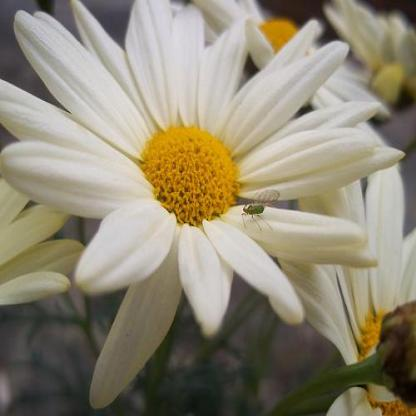aphid: (241, 187, 285, 233)
